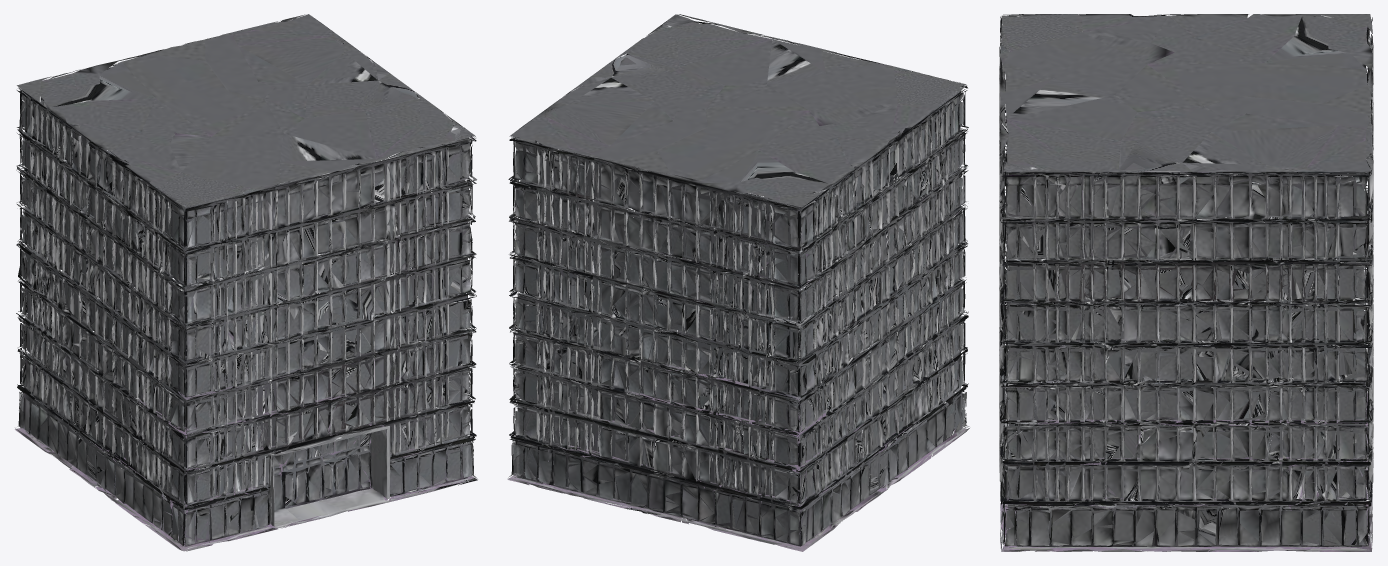
Rendered from office.glb.
3 renders of one model, left to right at view 1: azimuth 30°, elevation 25°; view 2: azimuth 150°, elevation 25°; view 3: azimuth 270°, elevation 25°, orthographic. The views are drawn at different scales.
Size of the model in its own units: 1.71 by 1.9 by 1.7.
Materials: 1 (1 with a texture image).
